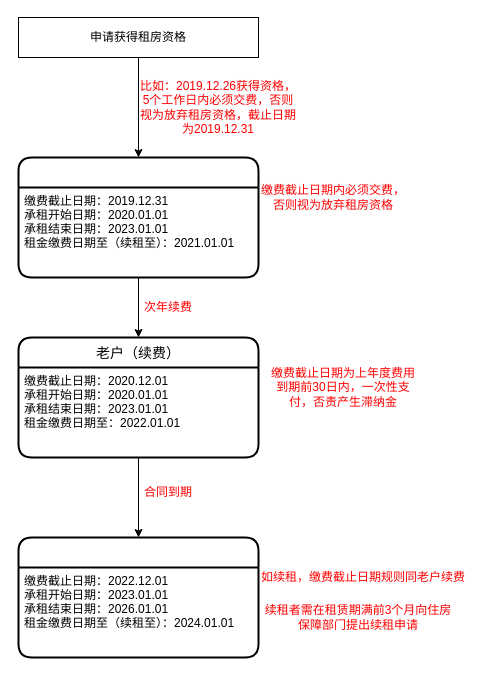
Some shapes in this 485 by 676 pixel diagram are drawn without their labels. The shapes that lost their labels are listed below. From the top down, each one's box as (x1, y1, x2, y2) in pixels, then its label:
(17, 156, 259, 278): 新户（首次缴费）
(17, 536, 259, 658): 老户（续租，重新签合同）
